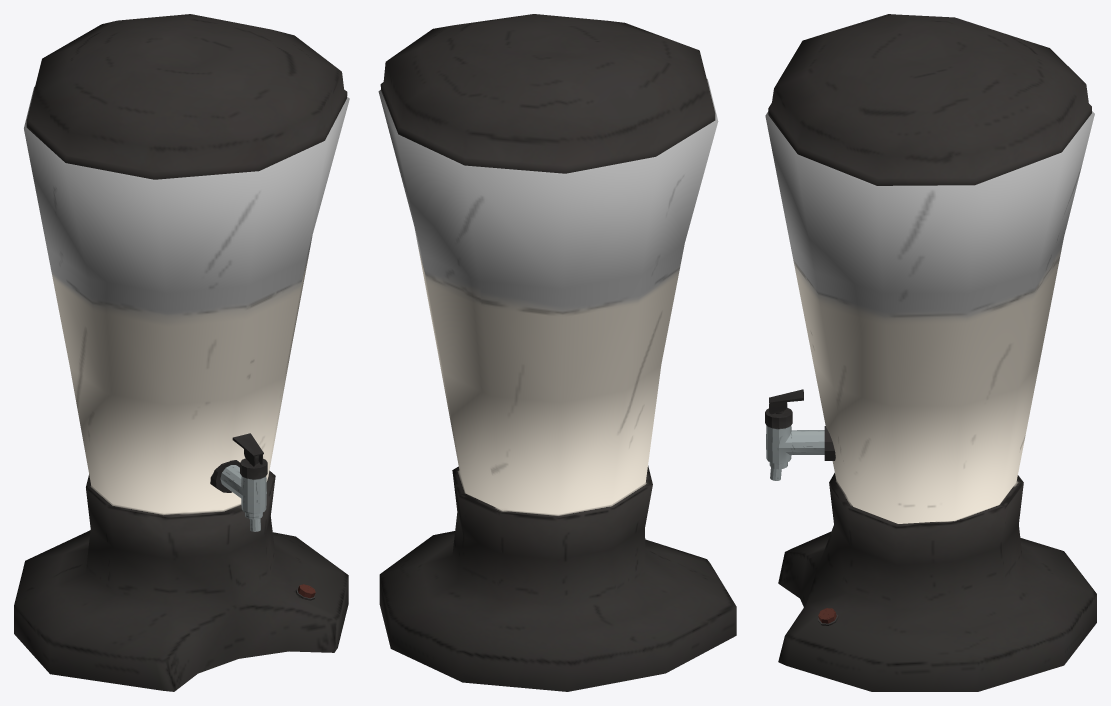
Rendered from Milk_tank.fbx.
3 renders of one model, left to right at view 1: azimuth 30°, elevation 25°; view 2: azimuth 150°, elevation 25°; view 3: azimuth 270°, elevation 25°, orthographic.
Visible parts, largest first — view 1: Milk_tank; view 2: Milk_tank; view 3: Milk_tank.
Boxes of the visible parts, left/top/right/bottom form: Milk_tank: left=14, top=14, right=349, bottom=691; Milk_tank: left=378, top=14, right=736, bottom=691; Milk_tank: left=765, top=14, right=1096, bottom=691.
Bounding box in the file's own units: 44.67 × 80.63 × 42.28.
